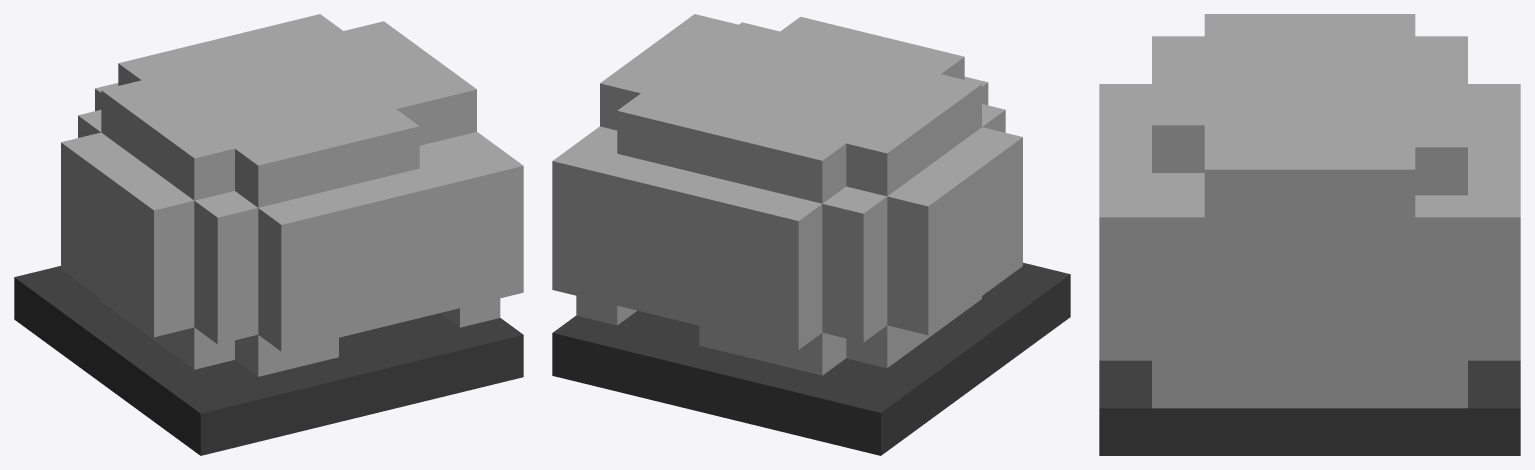
Rendered from Cloud2.obj.
3 renders of one model, left to right at view 1: azimuth 30°, elevation 25°; view 2: azimuth 150°, elevation 25°; view 3: azimuth 270°, elevation 25°, orthographic. The views are drawn at different scales.
Size of the model in its own units: 0.8 by 0.6 by 0.8.
1 material, 1 textured.
